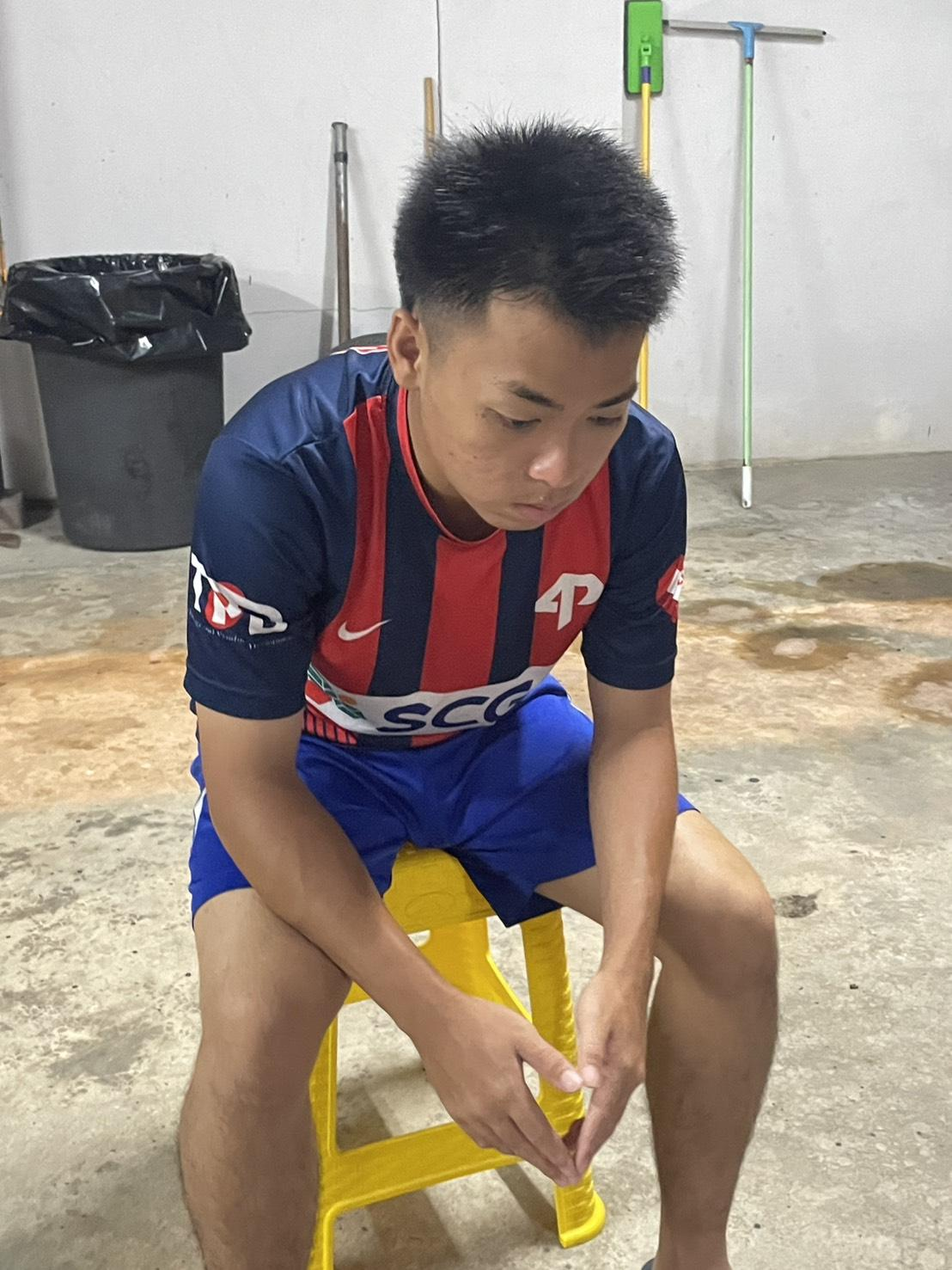BadPosture: (184, 123, 685, 750)
